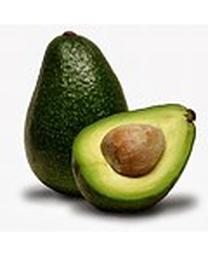avocado: (23, 33, 131, 200), (70, 103, 197, 215)
